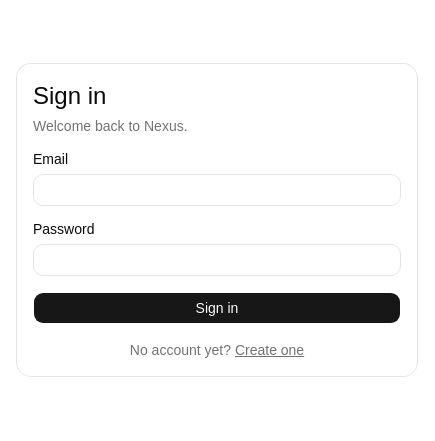
Test case: LoginPage › explains an unverified email only when the server says so
The image size is (435, 441).
Type "ada@example.com" into the field labelled "Email".
click(217, 190); type("ada@example.com")  # box [33,174,401,206]
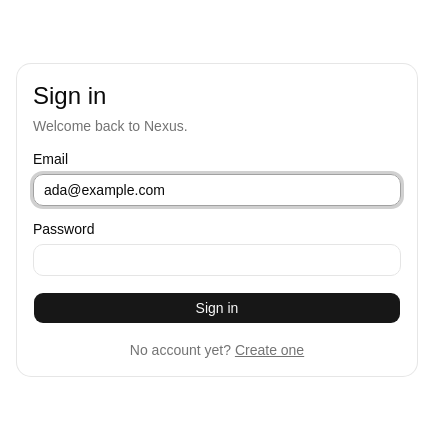
Type "s3cret-passphrase" into the password field labelled "Password".
click(217, 260); type("s3cret-passphrase")  # box [33,244,401,276]
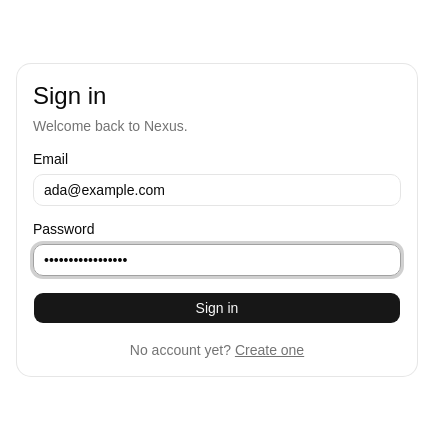
Click the button "Sign in".
click(217, 308)  # box [33,292,401,324]
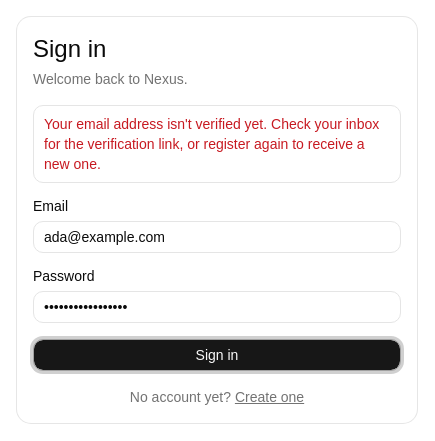
expect the text "isn't verified yet" is shown: met, box [44,116,379,172]
